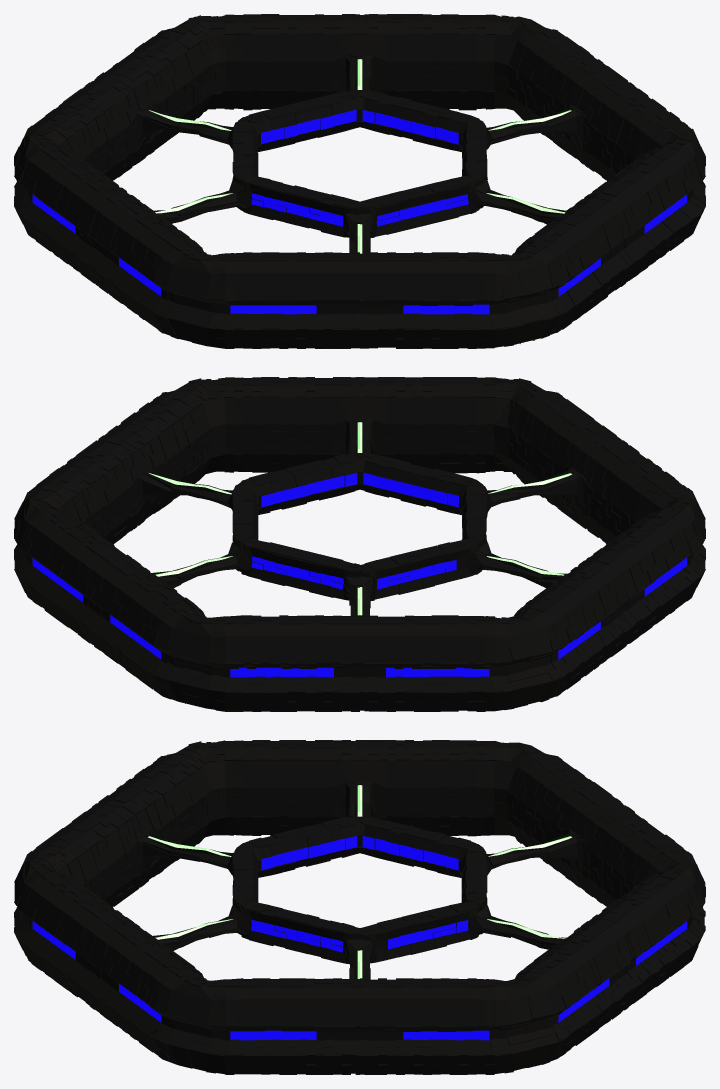
Rendered from spacestation.glb.
3 views of the same model, one above another, from view 1: azimuth 30°, elevation 25°; view 2: azimuth 150°, elevation 25°; view 3: azimuth 270°, elevation 25° (orthographic).
Parts seen in each view (by area): view 1: HoneyComb; view 2: HoneyComb; view 3: HoneyComb.
Boxes of the visible parts, x1,y1,x2,y2 form: HoneyComb: (14, 14, 705, 348); HoneyComb: (14, 377, 705, 711); HoneyComb: (14, 740, 705, 1074).
Bounding box in the file's own units: 97 × 14.18 × 106.
